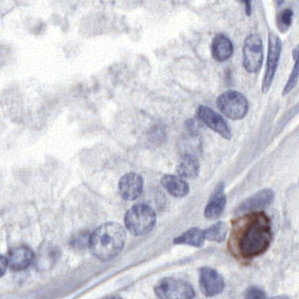Lymphocyte: (225, 210, 273, 264)
